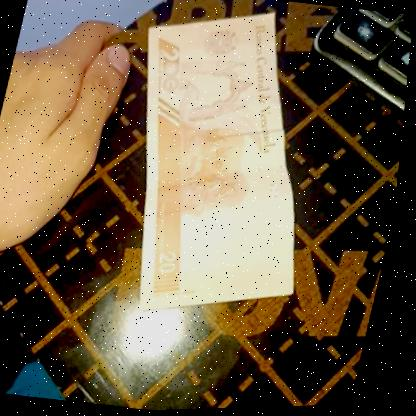twenty-back-vef: (86, 0, 361, 335)
